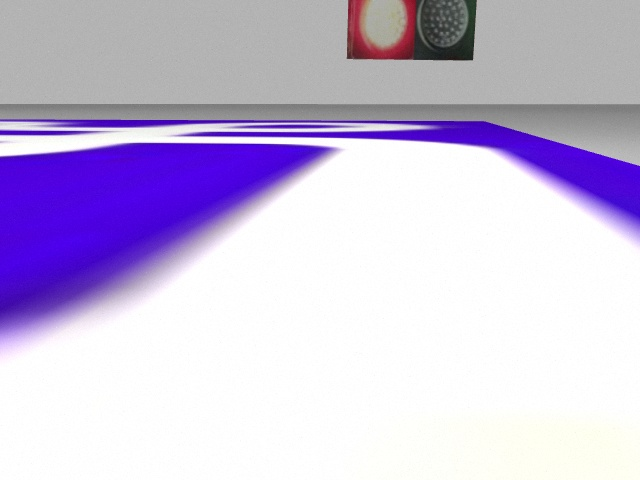red: (347, 2, 415, 60)
